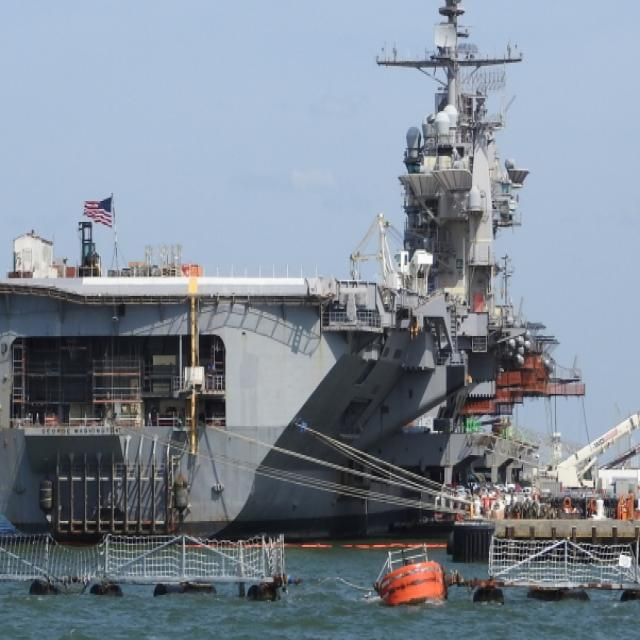Portanaves: (1, 1, 564, 544)
